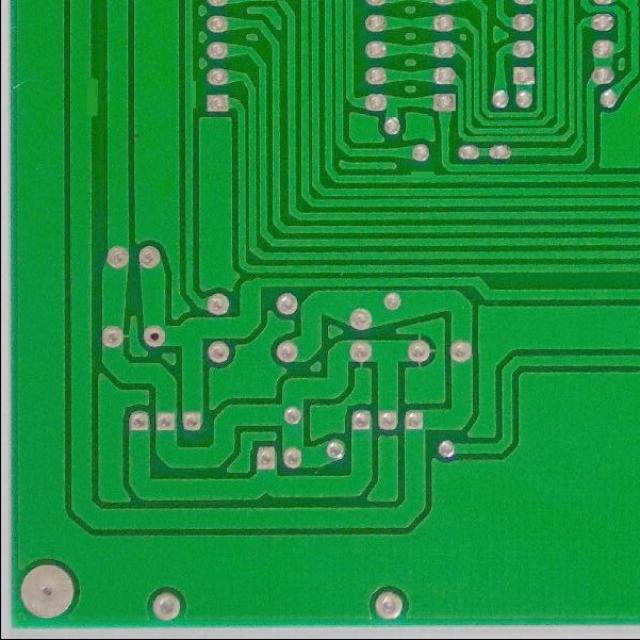spur: (80, 72, 104, 124), (181, 76, 198, 115), (404, 167, 438, 183)
